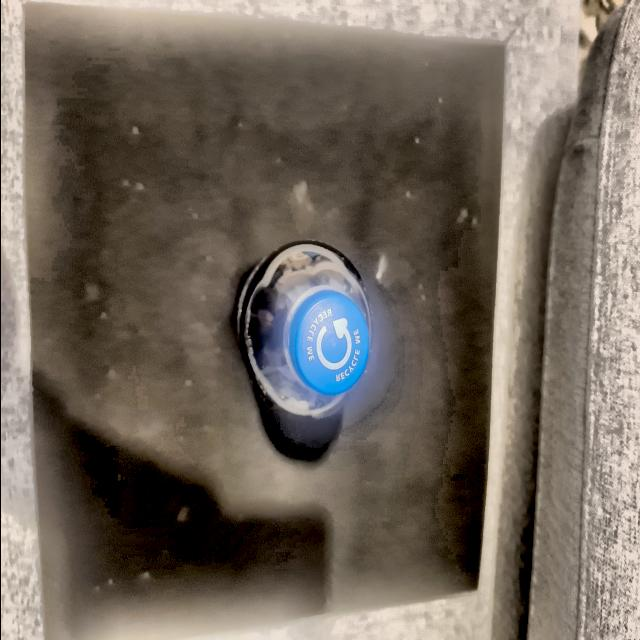pepsi-bottle: (228, 242, 376, 412)
